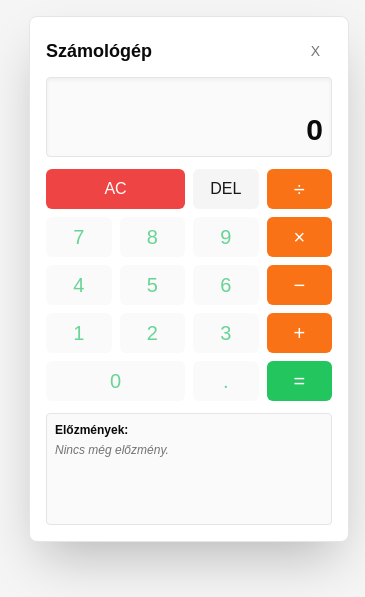
Test: Calculator Component › performs subtraction correctly
Click the button "5": point(152, 285) [120, 265, 185, 305]
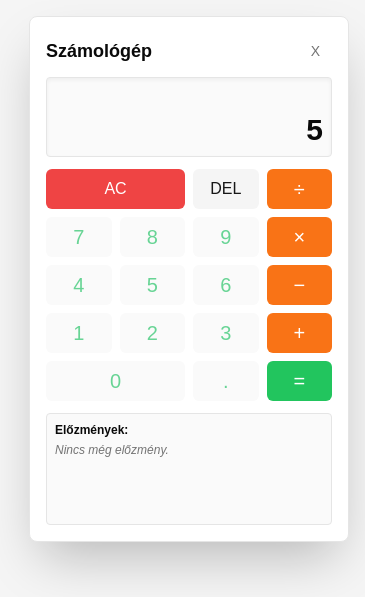
Click the button "−": point(299, 285) [266, 265, 332, 305]
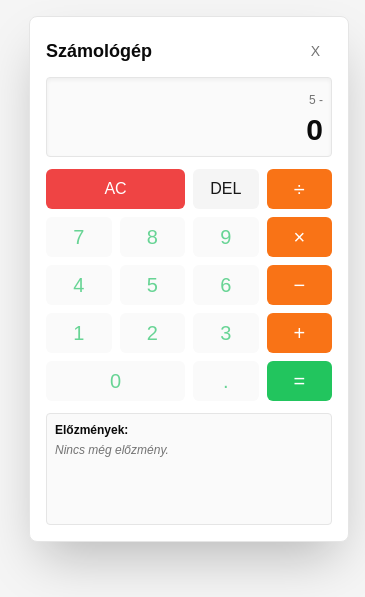
Click the button "2": point(152, 333) [120, 313, 185, 353]
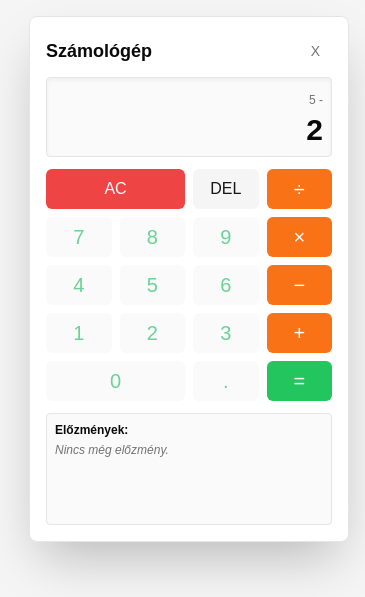
Click the button "=": point(299, 381) [266, 361, 332, 401]
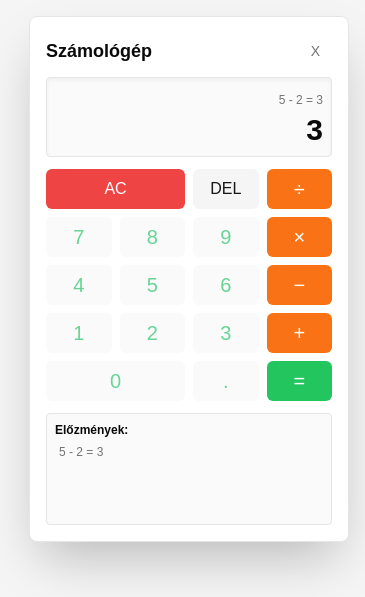
Expected: the text with class "font-bold" reads "3", [306, 113, 323, 146]
Expected: the 1st text with class "truncate" reads "5 - 2 = 3", [279, 93, 323, 107]
